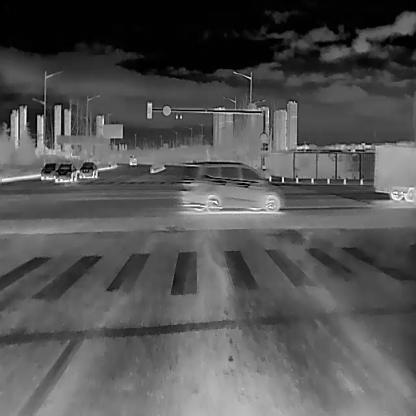car: (181, 159, 283, 213), (373, 141, 415, 202), (53, 162, 76, 182), (77, 160, 96, 178), (40, 162, 57, 180), (127, 154, 137, 165)
